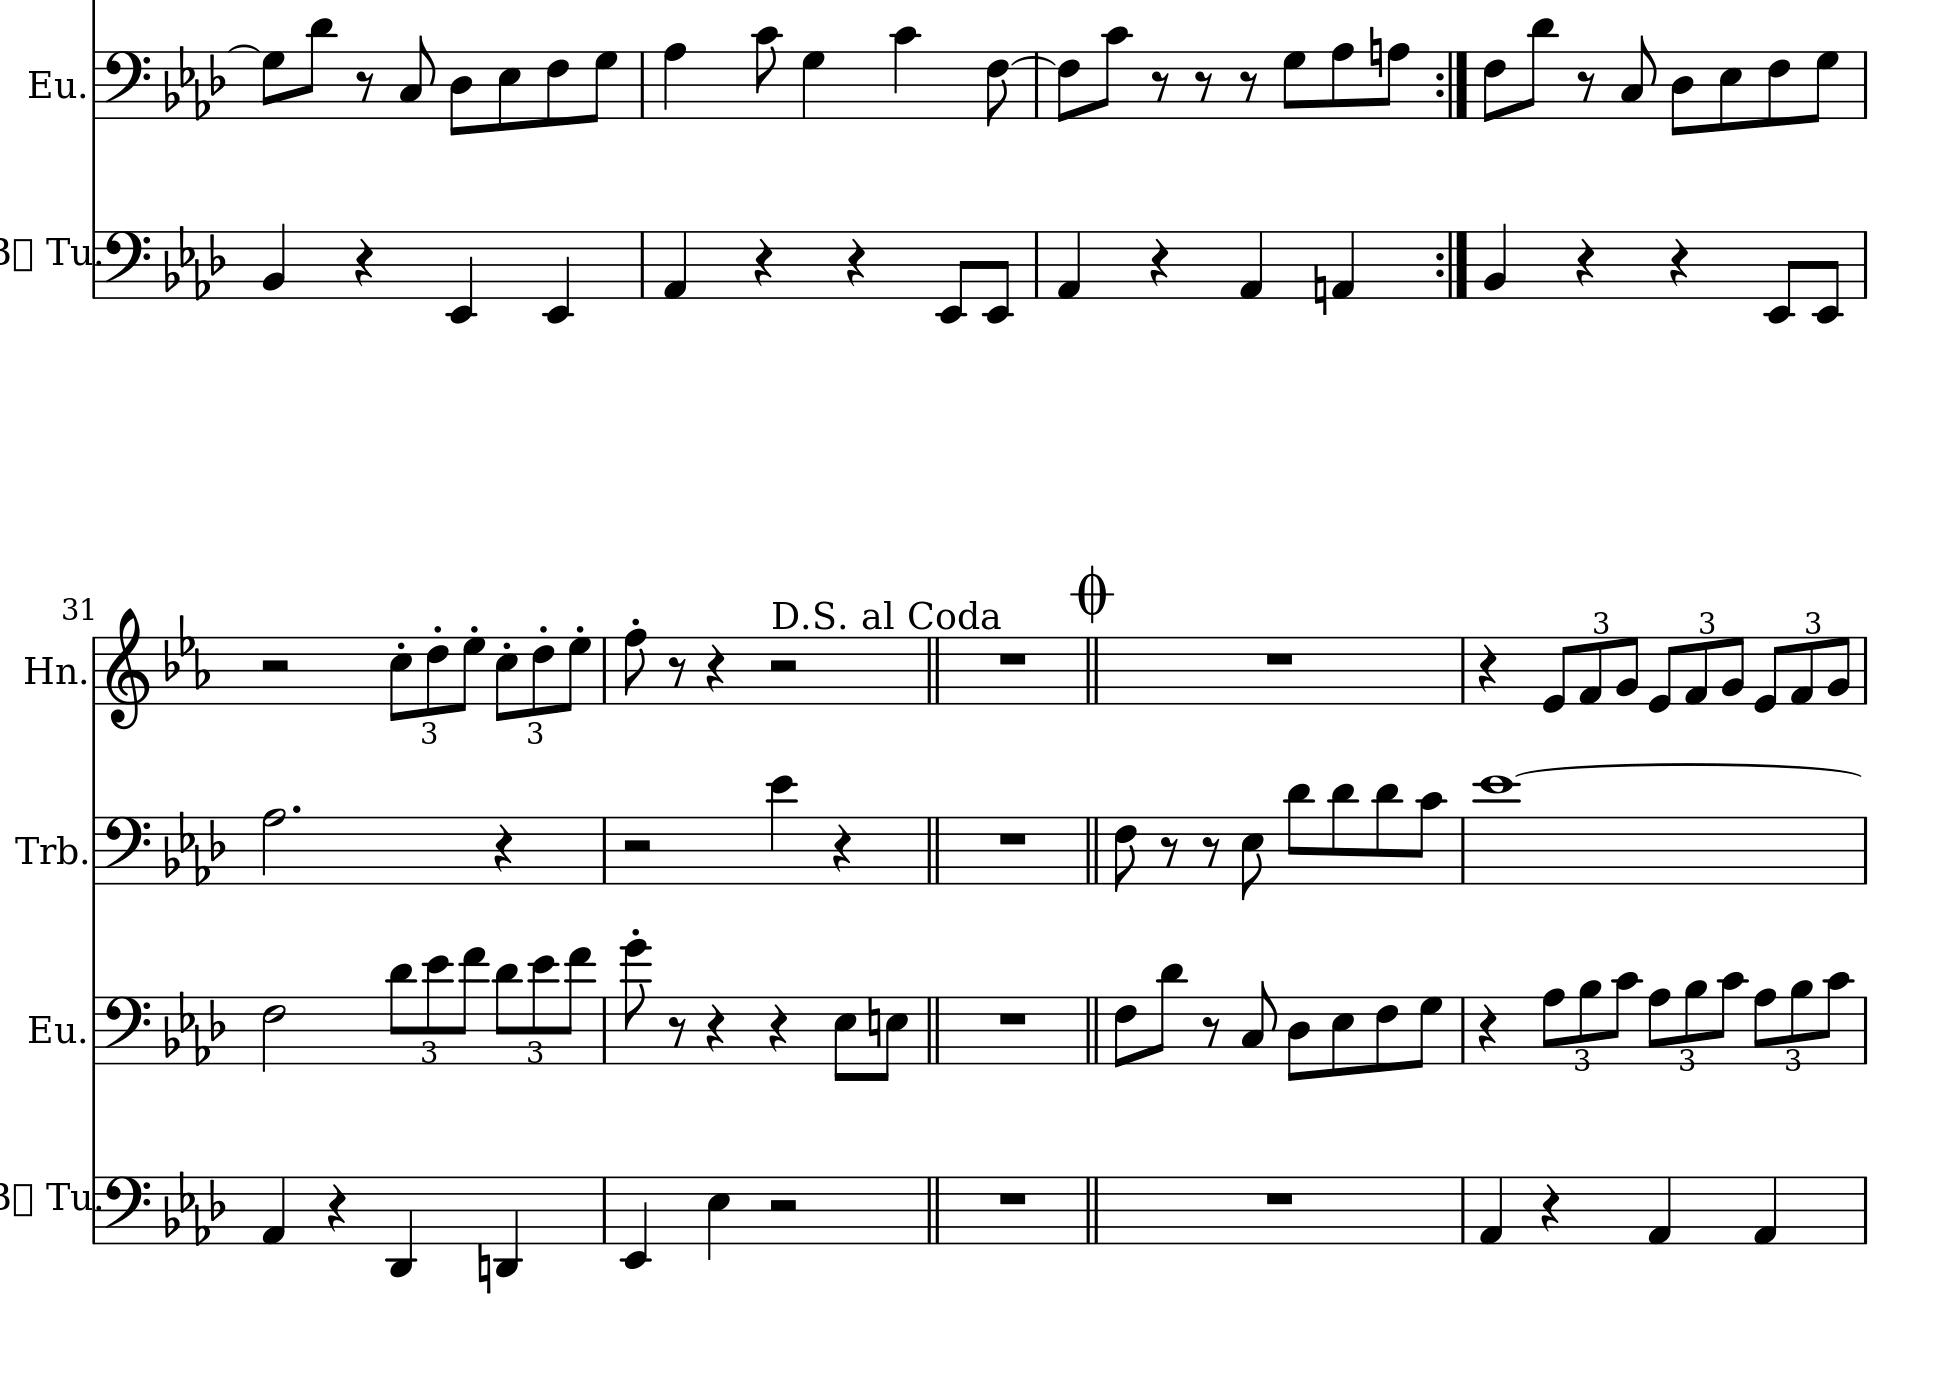1: (81, 594, 94, 622)
1_12: (1476, 772, 1516, 885)
2_6: (261, 994, 285, 1072)
2_8: (261, 805, 285, 885)
3: (418, 718, 438, 745), (418, 1039, 438, 1063), (1593, 609, 1611, 634), (1698, 609, 1716, 634), (1573, 1045, 1591, 1071), (526, 720, 544, 744), (526, 1039, 544, 1063), (1678, 1047, 1696, 1071), (1785, 1047, 1801, 1071), (61, 595, 76, 621), (1806, 609, 1821, 634)
4_-2: (447, 229, 475, 324), (621, 1174, 649, 1269), (544, 229, 571, 324)
4_-3: (385, 1171, 415, 1278), (493, 1173, 520, 1279)
4_1: (661, 229, 688, 301), (1056, 229, 1083, 301), (1479, 1174, 1506, 1246), (1647, 1174, 1674, 1246), (1752, 1174, 1779, 1246), (259, 1174, 286, 1245), (1239, 229, 1264, 300), (1332, 229, 1356, 300)
4_12: (766, 774, 796, 886)
4_2: (1482, 222, 1509, 301), (261, 222, 288, 300)
4_5: (706, 1173, 732, 1261)
4_7: (799, 49, 826, 120)
4_8: (661, 40, 687, 121)
8_-2: (934, 229, 970, 324), (1764, 229, 1800, 324), (982, 229, 1014, 324), (1812, 229, 1842, 325)
8_0: (1752, 634, 1785, 715), (1647, 634, 1680, 714), (1542, 634, 1573, 715)
8_1: (1578, 634, 1605, 706), (1683, 634, 1710, 706), (1789, 634, 1816, 706)
8_10: (1411, 789, 1446, 885), (1095, 24, 1128, 120), (1716, 970, 1747, 1065), (1822, 970, 1854, 1065), (1611, 970, 1641, 1065), (753, 25, 781, 121), (892, 25, 916, 121)
8_11: (1519, 15, 1557, 121), (1149, 958, 1185, 1066), (300, 16, 334, 120), (1372, 778, 1401, 886), (1285, 780, 1314, 883), (1329, 781, 1357, 885), (493, 958, 520, 1065), (388, 958, 415, 1063)
8_12: (529, 952, 558, 1066), (424, 952, 451, 1066)
8_13: (454, 945, 487, 1065), (561, 946, 594, 1063)
8_14: (619, 937, 652, 1066)
8_2: (1720, 634, 1746, 706), (1827, 634, 1852, 706), (1614, 634, 1639, 705)
8_3: (1240, 979, 1278, 1065), (397, 34, 435, 118), (1620, 34, 1656, 120)
8_4: (1285, 994, 1311, 1083), (448, 49, 474, 136), (1669, 51, 1695, 136)
8_5: (874, 994, 909, 1083), (831, 994, 858, 1083), (1239, 814, 1266, 901), (1329, 994, 1356, 1077), (493, 634, 519, 721), (496, 48, 522, 132), (1717, 48, 1743, 132), (388, 634, 412, 721)
8_6: (1113, 814, 1140, 892), (529, 634, 555, 717), (1765, 48, 1791, 129), (985, 48, 1011, 127), (1374, 994, 1399, 1074), (424, 634, 448, 718), (544, 49, 570, 127), (1111, 994, 1137, 1069), (1482, 49, 1506, 124), (1056, 49, 1080, 123)
8_7: (1806, 49, 1839, 124), (585, 49, 618, 123), (1411, 994, 1443, 1069), (454, 634, 484, 712), (561, 634, 591, 711), (259, 48, 285, 118), (1281, 49, 1306, 120)
8_8: (1380, 40, 1410, 121), (1329, 40, 1354, 121), (622, 627, 648, 706), (1540, 987, 1566, 1066), (1647, 987, 1671, 1066), (1753, 987, 1777, 1066)
8_9: (1578, 978, 1602, 1069), (1684, 978, 1708, 1069), (1791, 978, 1815, 1069)
A_F: (163, 808, 226, 886), (163, 42, 225, 118), (163, 988, 223, 1065), (163, 1168, 223, 1245), (163, 223, 223, 298)
Coda: (1069, 562, 1116, 621)
DSalcoda: (769, 595, 1003, 636)
Double_barline: (1080, 1174, 1105, 1243), (922, 1174, 946, 1243), (1081, 814, 1104, 883), (1081, 994, 1104, 1063), (922, 634, 943, 703), (922, 814, 943, 883), (922, 994, 943, 1063), (1083, 637, 1102, 703)
E_F: (162, 613, 211, 690)
Fclef: (102, 48, 151, 120), (103, 814, 151, 885), (103, 994, 151, 1065), (103, 1173, 151, 1243), (103, 228, 150, 298)
Gclef: (103, 606, 148, 730)
Hn: (25, 654, 78, 690)
Natural: (1312, 262, 1329, 316), (475, 1240, 492, 1294), (1368, 24, 1383, 78), (865, 994, 880, 1047)
Rests1: (994, 648, 1032, 667), (1263, 648, 1299, 667), (996, 828, 1030, 847), (996, 1188, 1030, 1207), (996, 1009, 1030, 1027), (1263, 1188, 1297, 1206)
Rests2: (765, 655, 802, 676), (618, 835, 655, 856), (765, 1195, 802, 1216), (256, 655, 292, 676)
Rests4: (352, 235, 375, 288), (751, 237, 774, 289), (844, 237, 867, 289), (703, 642, 726, 694), (492, 822, 514, 874), (831, 822, 853, 874), (703, 1002, 726, 1054), (1539, 1182, 1561, 1234), (1573, 237, 1596, 288), (1668, 237, 1690, 288), (1476, 1003, 1498, 1054), (1149, 237, 1170, 289), (766, 1002, 787, 1054), (325, 1182, 346, 1234), (1477, 643, 1498, 694)
Rests8: (1576, 67, 1597, 102), (667, 654, 688, 688), (667, 1014, 688, 1048), (1194, 67, 1215, 100), (1150, 67, 1170, 102), (1239, 67, 1258, 102), (1201, 832, 1221, 867), (1201, 1012, 1221, 1047), (355, 67, 375, 100), (1159, 834, 1179, 867)
RightRepeatSign: (1435, 49, 1470, 118), (1435, 231, 1470, 297)
Single_barline: (1029, 229, 1048, 298), (1855, 1176, 1875, 1243), (1455, 1174, 1473, 1243), (634, 229, 652, 297), (595, 816, 613, 883), (1858, 634, 1875, 705), (1455, 634, 1471, 703), (597, 636, 613, 703), (1857, 816, 1873, 883), (634, 51, 651, 117), (1858, 994, 1873, 1065), (1455, 814, 1470, 883), (1858, 231, 1873, 298), (87, 816, 102, 883), (1456, 996, 1471, 1063), (597, 1176, 612, 1243), (597, 997, 612, 1063), (87, 634, 100, 705), (1030, 52, 1045, 115), (87, 994, 100, 1063), (87, 51, 100, 118), (1860, 51, 1872, 118)
Slur: (87, 231, 103, 298), (1014, 55, 1056, 66), (228, 42, 259, 52)
Trb: (13, 825, 79, 868)
dot: (289, 802, 301, 814)
